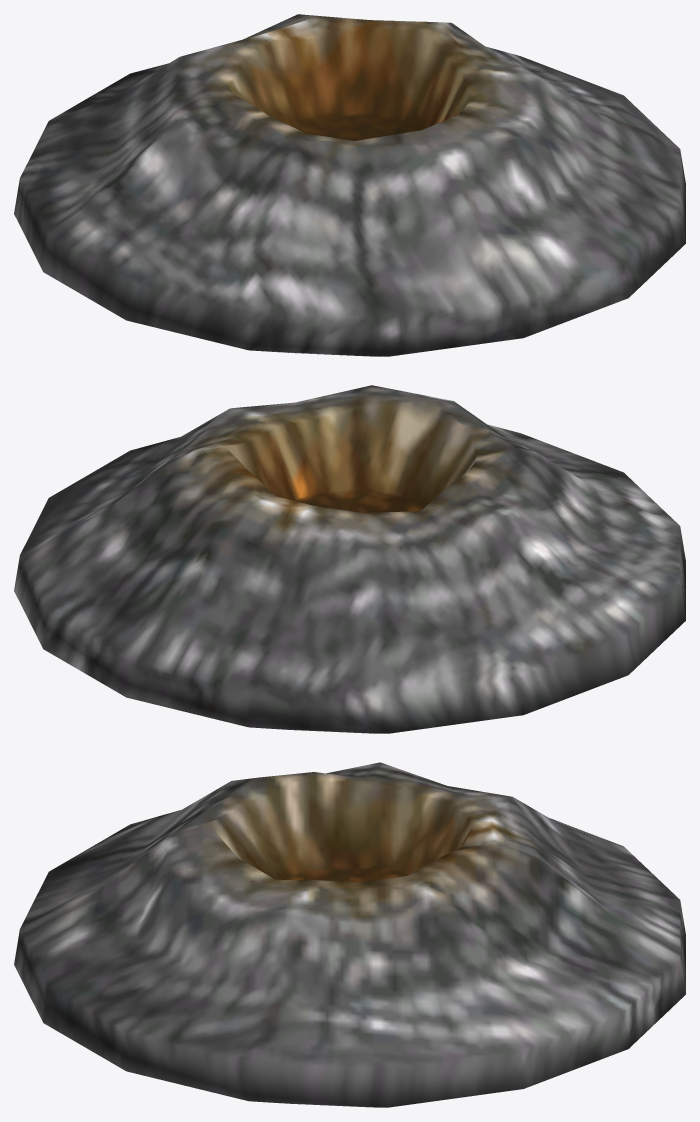
File: EELHOLE.fbx
3 views of the same model, one above another, from view 1: azimuth 30°, elevation 25°; view 2: azimuth 150°, elevation 25°; view 3: azimuth 270°, elevation 25° (orthographic).
Parts seen in each view (by area): view 1: EELHOLE; view 2: EELHOLE; view 3: EELHOLE.
Boxes of the visible parts, <box> form: EELHOLE: <box>14,14,685,356</box>; EELHOLE: <box>14,385,685,733</box>; EELHOLE: <box>14,762,685,1107</box>.
Bounding box in the file's own units: 20556 × 8332 × 20443.
1 material, 1 textured.
